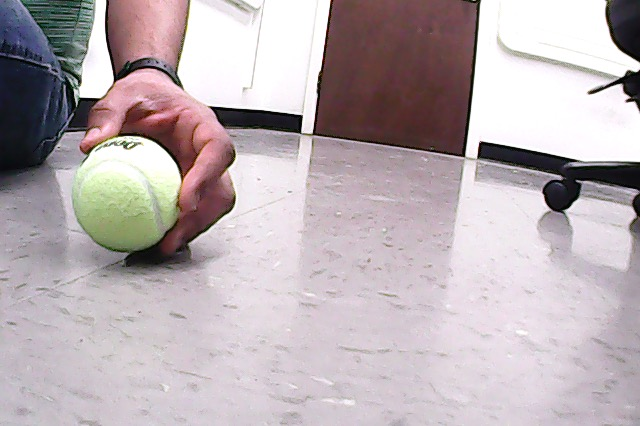ball: (73, 136, 183, 253)
